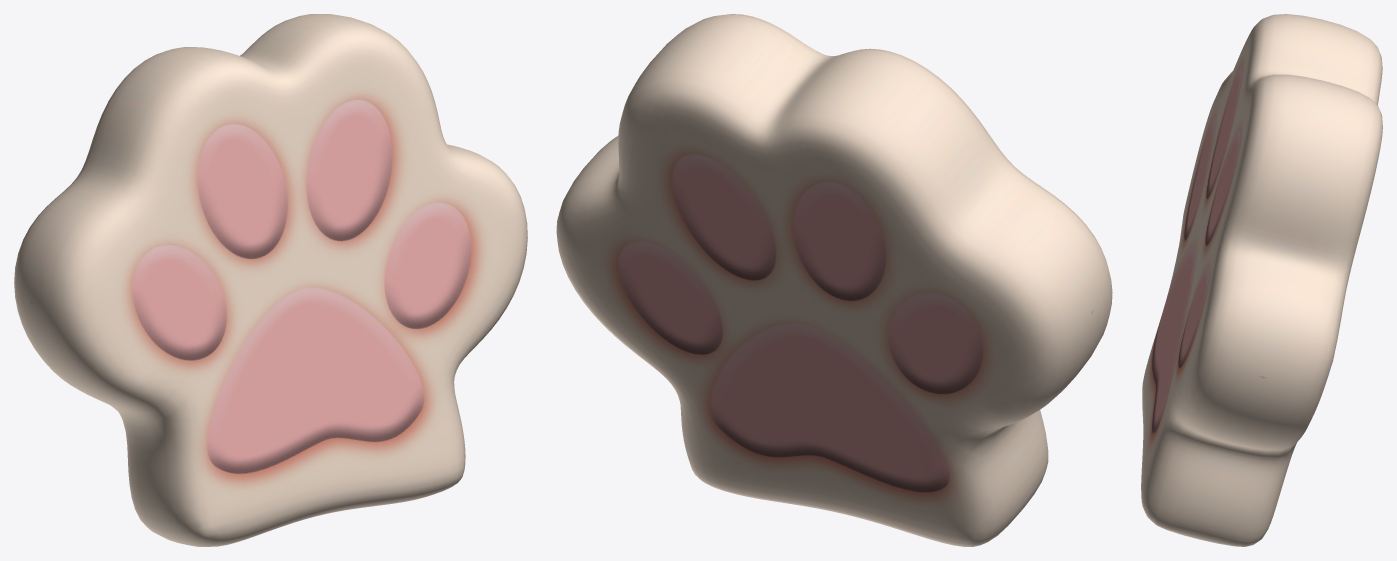
3 views of the same model, side by side, from view 1: azimuth 30°, elevation 25°; view 2: azimuth 150°, elevation 25°; view 3: azimuth 270°, elevation 25° (orthographic). The views are drawn at different scales.
Visible parts, largest first — view 1: Obj3d66-18121221-6-870; view 2: Obj3d66-18121221-6-870; view 3: Obj3d66-18121221-6-870.
Part boxes in pixels (x1=…): Obj3d66-18121221-6-870: x1=14, y1=14, x2=527, y2=546; Obj3d66-18121221-6-870: x1=556, y1=14, x2=1112, y2=546; Obj3d66-18121221-6-870: x1=1141, y1=14, x2=1382, y2=546.
Size of the model in its own units: 4.75 by 4.3 by 2.13.
1 material, 1 textured.
